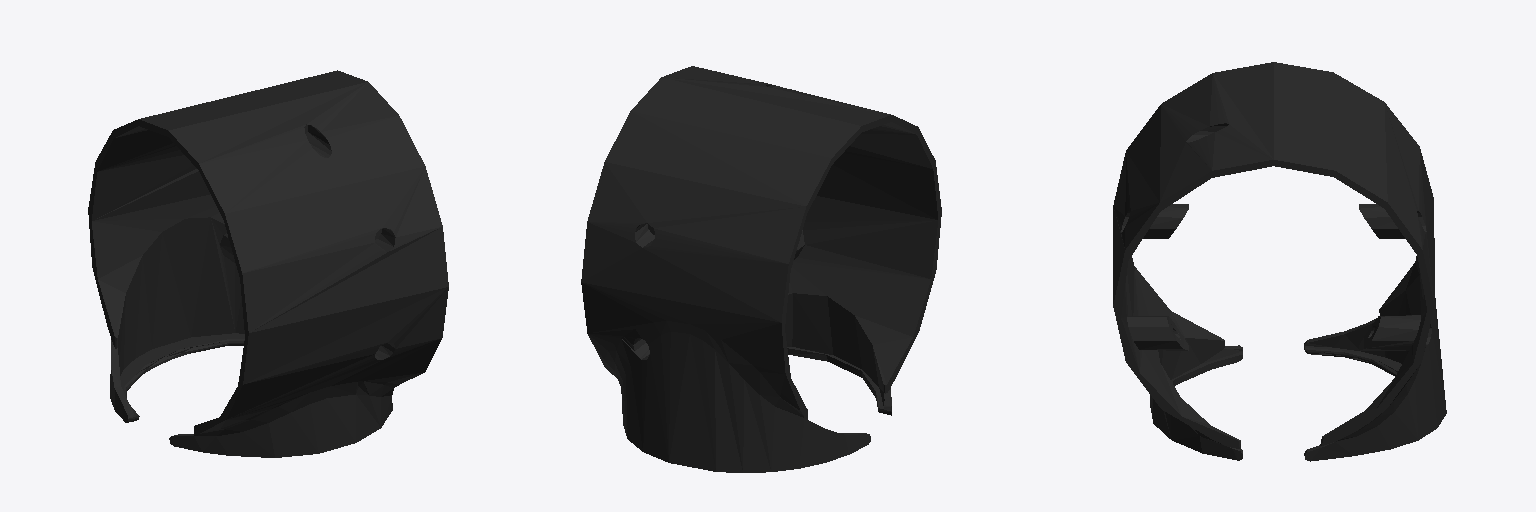
File: asm0001_vrml_13_prt.obj
The picture shows the model from 3 angles: view 1: azimuth 30°, elevation 25°; view 2: azimuth 150°, elevation 25°; view 3: azimuth 270°, elevation 25°; orthographic projection.
Parts seen in each view (by area): view 1: ShapeIndexedFaceSet.001_ShapeIndexedFaceSet, ShapeIndexedFaceSet_ShapeIndexedFaceSet.039; view 2: ShapeIndexedFaceSet_ShapeIndexedFaceSet.039, ShapeIndexedFaceSet.001_ShapeIndexedFaceSet; view 3: ShapeIndexedFaceSet_ShapeIndexedFaceSet.039, ShapeIndexedFaceSet.001_ShapeIndexedFaceSet.
Boxes of the visible parts, x1=… form: ShapeIndexedFaceSet.001_ShapeIndexedFaceSet: x1=168, y1=82, x2=448, y2=457; ShapeIndexedFaceSet_ShapeIndexedFaceSet.039: x1=88, y1=70, x2=367, y2=422; ShapeIndexedFaceSet_ShapeIndexedFaceSet.039: x1=581, y1=77, x2=870, y2=472; ShapeIndexedFaceSet.001_ShapeIndexedFaceSet: x1=662, y1=66, x2=941, y2=415; ShapeIndexedFaceSet_ShapeIndexedFaceSet.039: x1=1274, y1=62, x2=1446, y2=461; ShapeIndexedFaceSet.001_ShapeIndexedFaceSet: x1=1113, y1=62, x2=1273, y2=460.
Size of the model in its own units: 1.88 by 2.32 by 2.35.